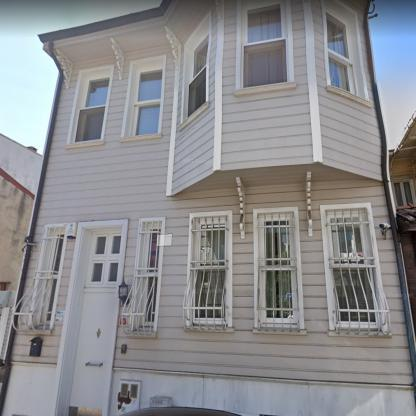door: (68, 292, 118, 415)
window: (328, 216, 377, 323), (245, 3, 285, 86), (263, 219, 293, 320), (196, 224, 224, 320), (77, 76, 110, 141), (326, 12, 352, 93), (187, 31, 209, 118), (134, 68, 162, 135), (44, 234, 64, 322), (144, 228, 159, 324), (92, 235, 121, 281), (394, 181, 414, 206)
